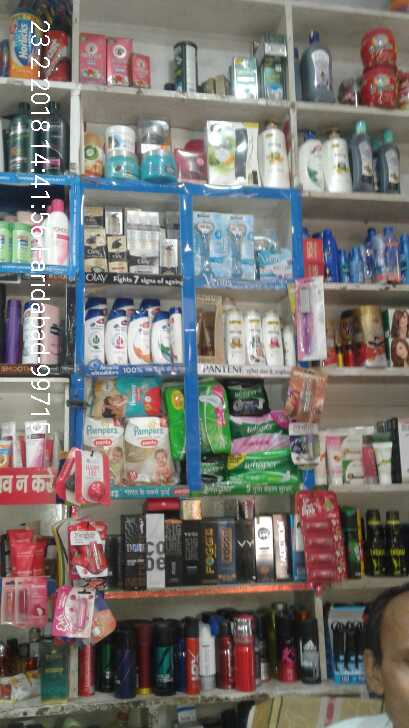venus: (194, 212, 226, 277), (226, 214, 254, 277), (259, 246, 291, 276)
